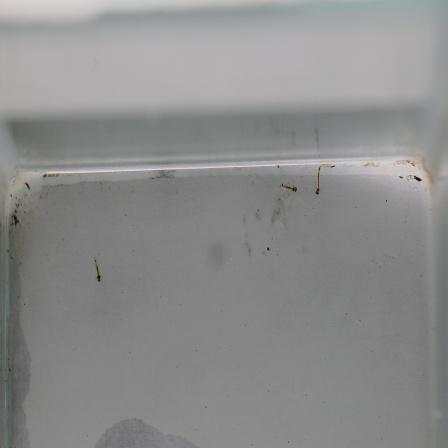Jentik-Nyamuk: (310, 164, 327, 198), (278, 179, 302, 199), (89, 256, 105, 286)
